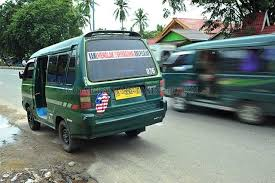plate: (114, 86, 142, 98)
